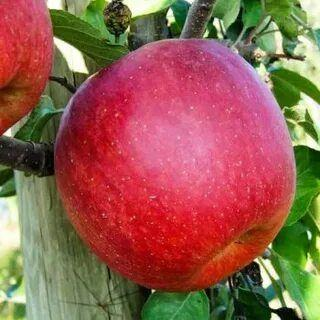Apple: (53, 37, 297, 292)
